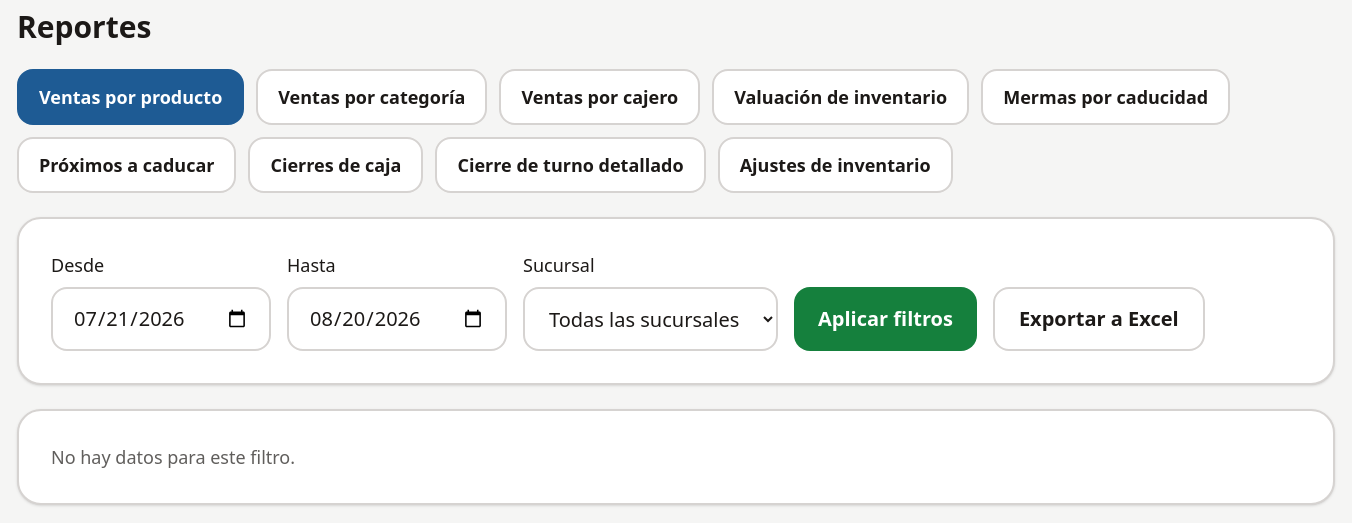
Scenario: ReportsScreen — exportar a Excel (punto 11, solo los 4 reportes ya existentes) › no muestra el botón de exportar en la pestaña "Próximos a caducar" (no es uno de los 4 reportes existentes)
This screenshot has width=1352, height=523.
Expected: the text "No hay datos para este filtro." is shown, [51, 445, 295, 469]
Click the button "Próximos a caducar": (127, 165) [17, 137, 236, 193]
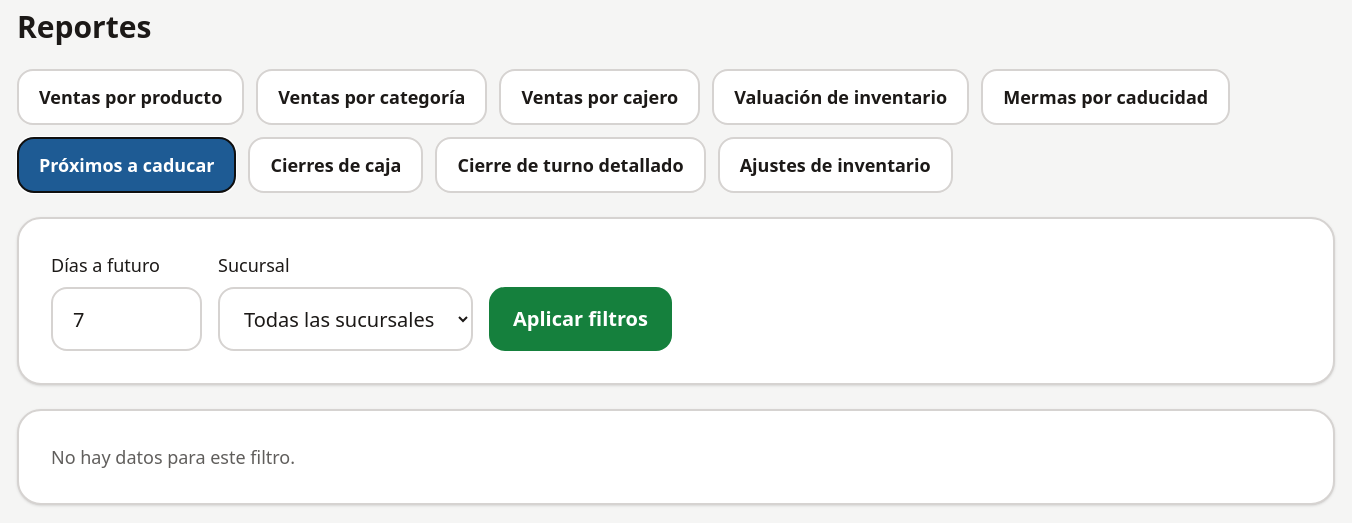
Now the button "Exportar a Excel" is gone
